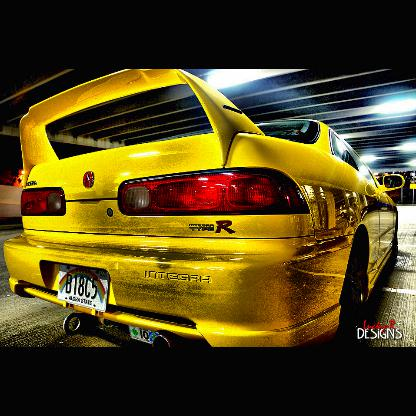Acura Integra Type R 2001: (3, 70, 405, 346)
